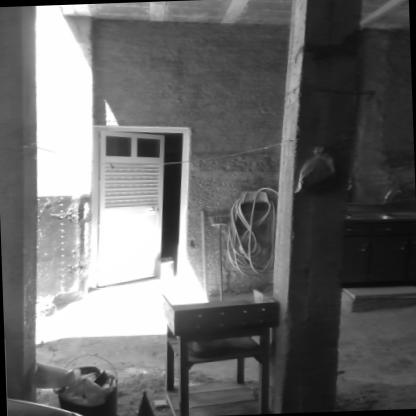semi: (70, 112, 208, 300)
